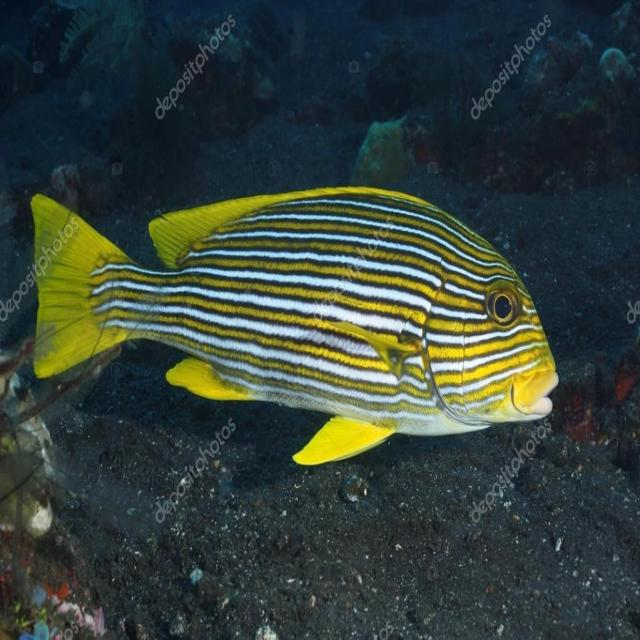RibbonedSweetlips: (28, 183, 559, 467)
